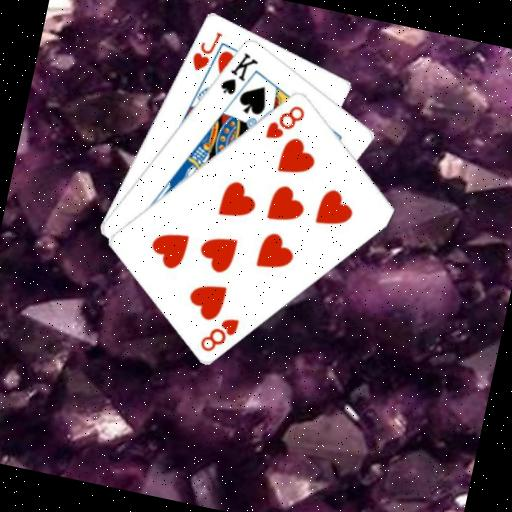8H: (261, 96, 308, 146), (195, 308, 242, 358)
JH: (186, 24, 224, 75)
KS: (215, 44, 261, 100)
